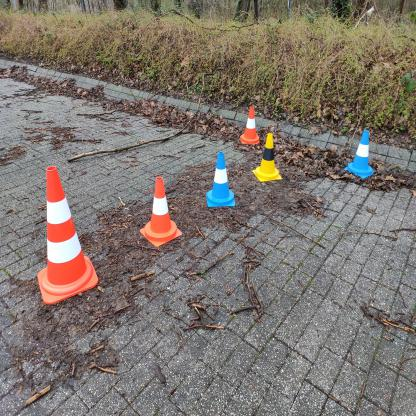Cones_big: (27, 165, 108, 297)
Cones_small_blue: (202, 150, 242, 217), (348, 124, 377, 181)
Cones_small_orange: (137, 176, 188, 246), (239, 99, 260, 146)
Cones_small_yellow: (252, 130, 289, 188)
